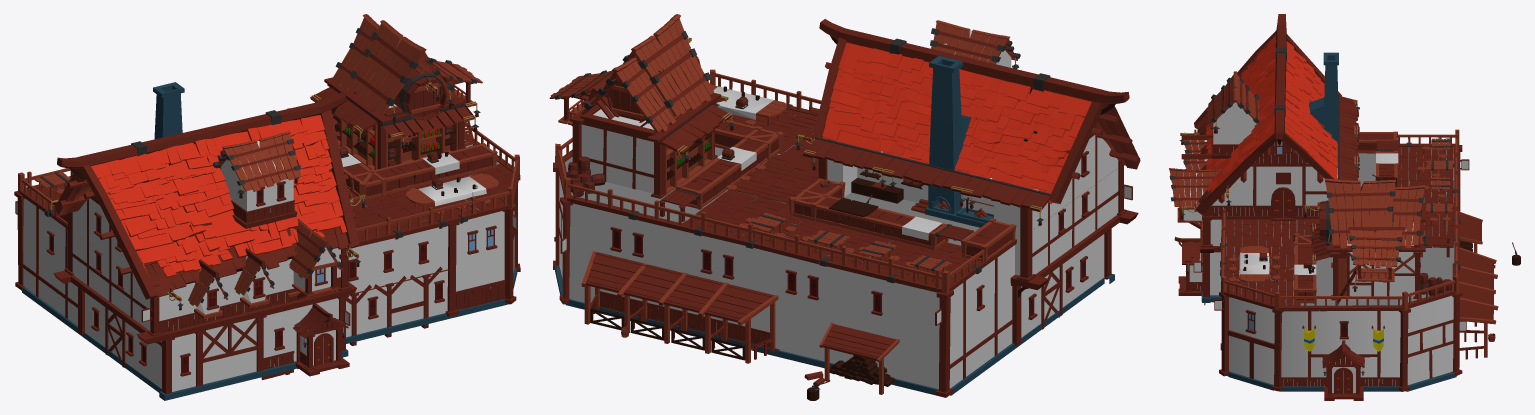
The model's file is tavern.fbx.
The picture shows the model from 3 angles, left to right: view 1: azimuth 30°, elevation 25°; view 2: azimuth 150°, elevation 25°; view 3: azimuth 270°, elevation 25°; orthographic projection. The views are drawn at different scales.
Visible parts, largest first — view 1: house; view 2: house; view 3: house.
Boxes of the visible parts, bbox=[...] form: house: bbox=[14, 14, 520, 400]; house: bbox=[549, 14, 1140, 400]; house: bbox=[1169, 14, 1520, 400].
Size of the model in its own units: 9.32 by 4.45 by 6.85.
